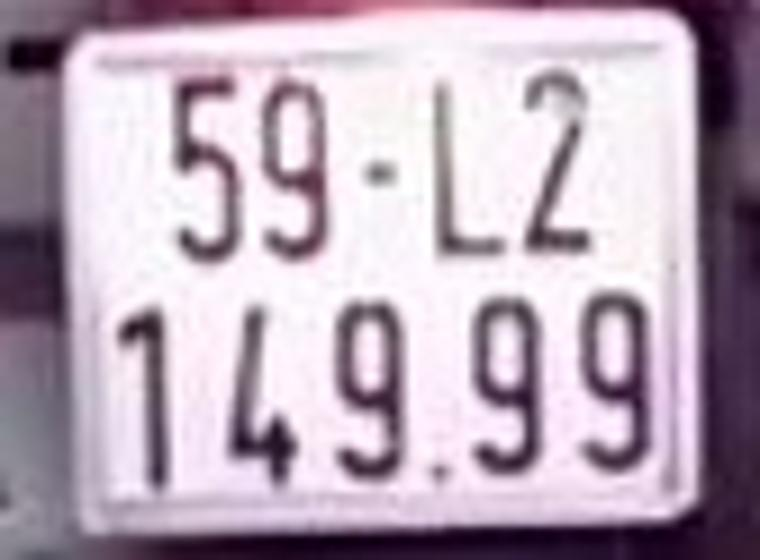-: (358, 161, 403, 192)
.: (419, 459, 455, 491)
1: (115, 301, 177, 494)
2: (523, 66, 597, 259)
4: (230, 303, 299, 489)
5: (171, 74, 245, 265)
9: (469, 293, 548, 478), (579, 293, 655, 474), (333, 295, 405, 485), (259, 79, 328, 264)
L: (427, 71, 509, 255)
